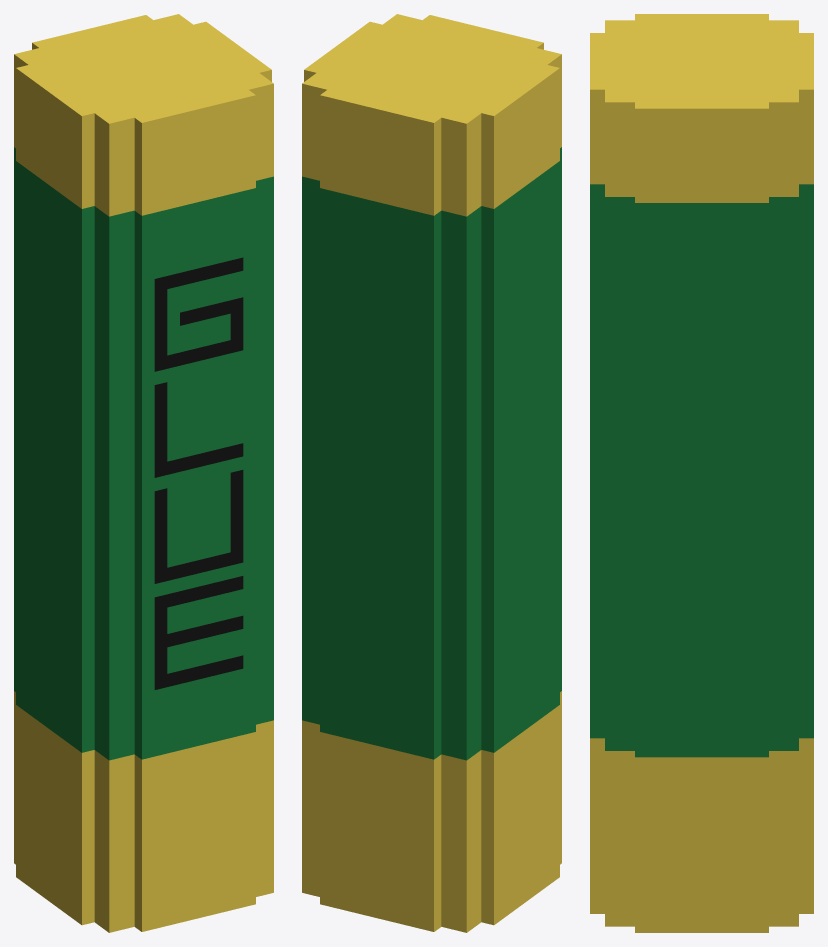
Rendered from glue_1_1.4.obj.
3 renders of one model, left to right at view 1: azimuth 30°, elevation 25°; view 2: azimuth 150°, elevation 25°; view 3: azimuth 270°, elevation 25°, orthographic.
Size of the model in its own units: 1.5 by 6.1 by 1.5.
Materials: 1 (1 with a texture image).
